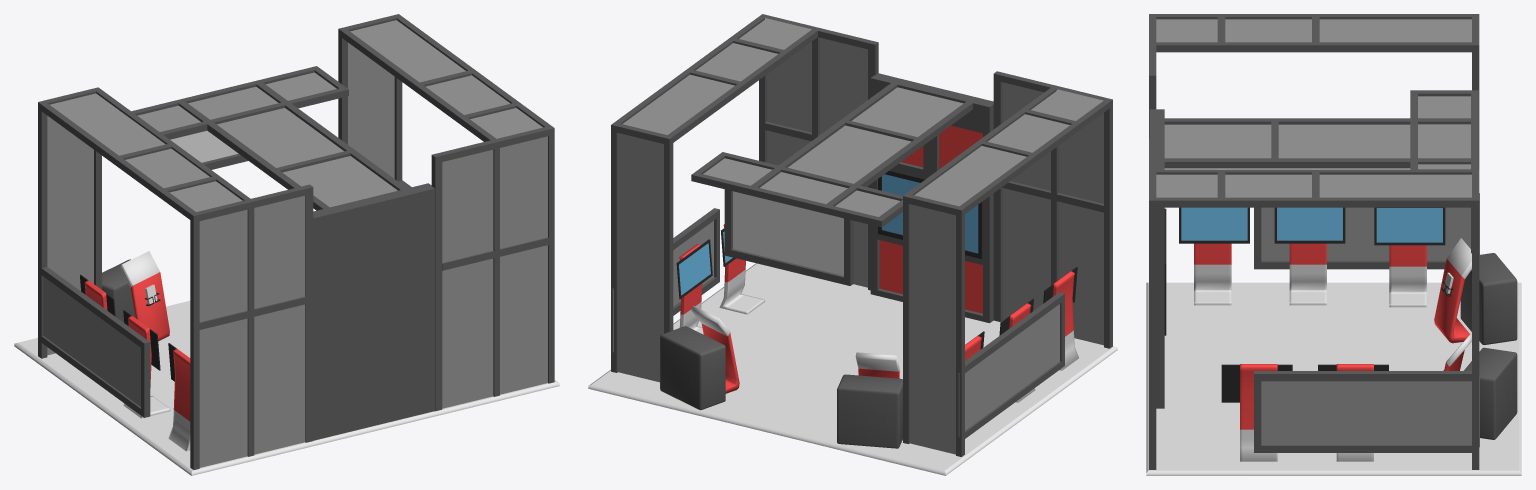
The model's file is Expo2Booth2.fbx.
3 renders of one model, left to right at view 1: azimuth 30°, elevation 25°; view 2: azimuth 150°, elevation 25°; view 3: azimuth 270°, elevation 25°, orthographic. The views are drawn at different scales.
Visible parts, largest first — view 1: Cube.004, Cube.002, Plane.022, Plane.020, Plane.019, Plane.018, Cube.008, Plane.016, Cube.003, Plane.021, Plane, Plane.007 (+4 smaller); view 2: Cube.008, Cube.004, Plane.018, Plane.020, Plane.019, Plane.022, Cube.003, Cube.006, Cube.002, Plane.016, Plane.021, Plane.001 (+8 smaller); view 3: Cube.008, Cube.004, Plane.021, Plane.019, Plane.016, Cube.003, Cube.006, Plane, Plane.010, Plane.008, Plane.011, Cube.002 (+8 smaller).
Part boxes in pixels (<box>): Cube.004: <box>38,14,554,469</box>; Cube.002: <box>313,183,434,440</box>; Plane.022: <box>254,150,493,454</box>; Plane.020: <box>199,136,547,467</box>; Plane.019: <box>50,20,542,211</box>; Plane.018: <box>47,42,394,355</box>; Cube.008: <box>14,300,559,475</box>; Plane.016: <box>217,108,397,207</box>; Cube.003: <box>131,66,406,210</box>; Plane.021: <box>43,276,140,406</box>; Plane: <box>137,72,336,131</box>; Plane.007: <box>120,251,169,341</box>; Cube.008: <box>588,263,1117,475</box>; Cube.004: <box>611,14,1112,456</box>; Plane.018: <box>618,133,955,454</box>; Plane.020: <box>767,41,1103,345</box>; Plane.019: <box>622,18,1103,206</box>; Plane.022: <box>820,37,1050,320</box>; Cube.003: <box>691,83,972,285</box>; Cube.006: <box>660,326,902,448</box>; Cube.002: <box>870,73,993,323</box>; Plane.016: <box>788,87,963,183</box>; Plane.021: <box>612,221,1059,436</box>; Plane.001: <box>733,191,843,275</box>; Cube.008: <box>1146,282,1521,475</box>; Cube.004: <box>1149,14,1479,469</box>; Plane.021: <box>1261,193,1479,447</box>; Plane.019: <box>1156,19,1471,197</box>; Plane.016: <box>1164,124,1410,158</box>; Cube.003: <box>1164,90,1478,253</box>; Cube.006: <box>1460,253,1517,439</box>; Plane: <box>1418,96,1470,169</box>; Plane.010: <box>1374,207,1445,245</box>; Plane.008: <box>1274,207,1345,243</box>; Plane.011: <box>1179,207,1249,243</box>; Cube.002: <box>1149,109,1164,408</box>.
Bounding box in the file's own units: 2400 × 1608 × 2000.
